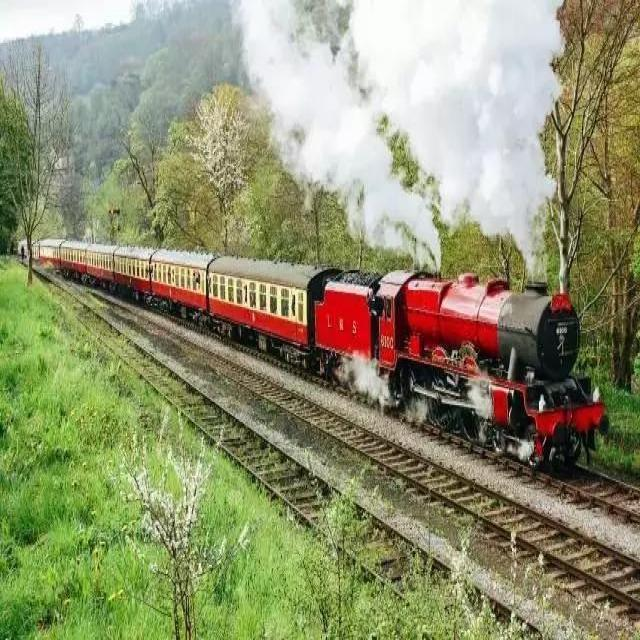Smoke: (229, 2, 568, 286), (342, 350, 392, 407), (464, 372, 493, 418), (506, 437, 536, 462), (405, 396, 427, 424)
